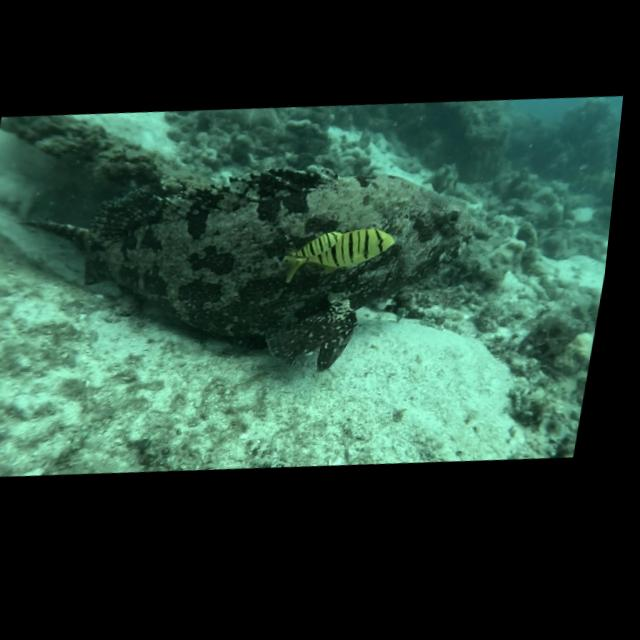Groupers: (0, 126, 492, 407)
